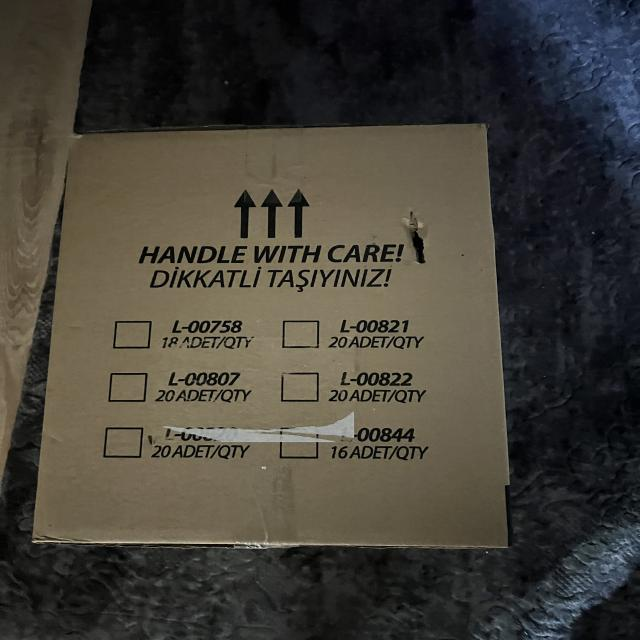damaged: (18, 115, 524, 557), (385, 197, 441, 272)
